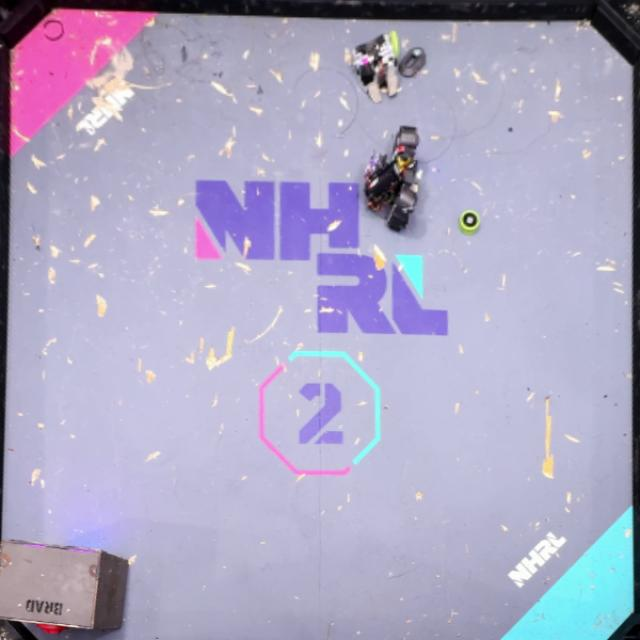housebot: (0, 538, 128, 634)
robot: (364, 125, 420, 232), (353, 30, 399, 103)
